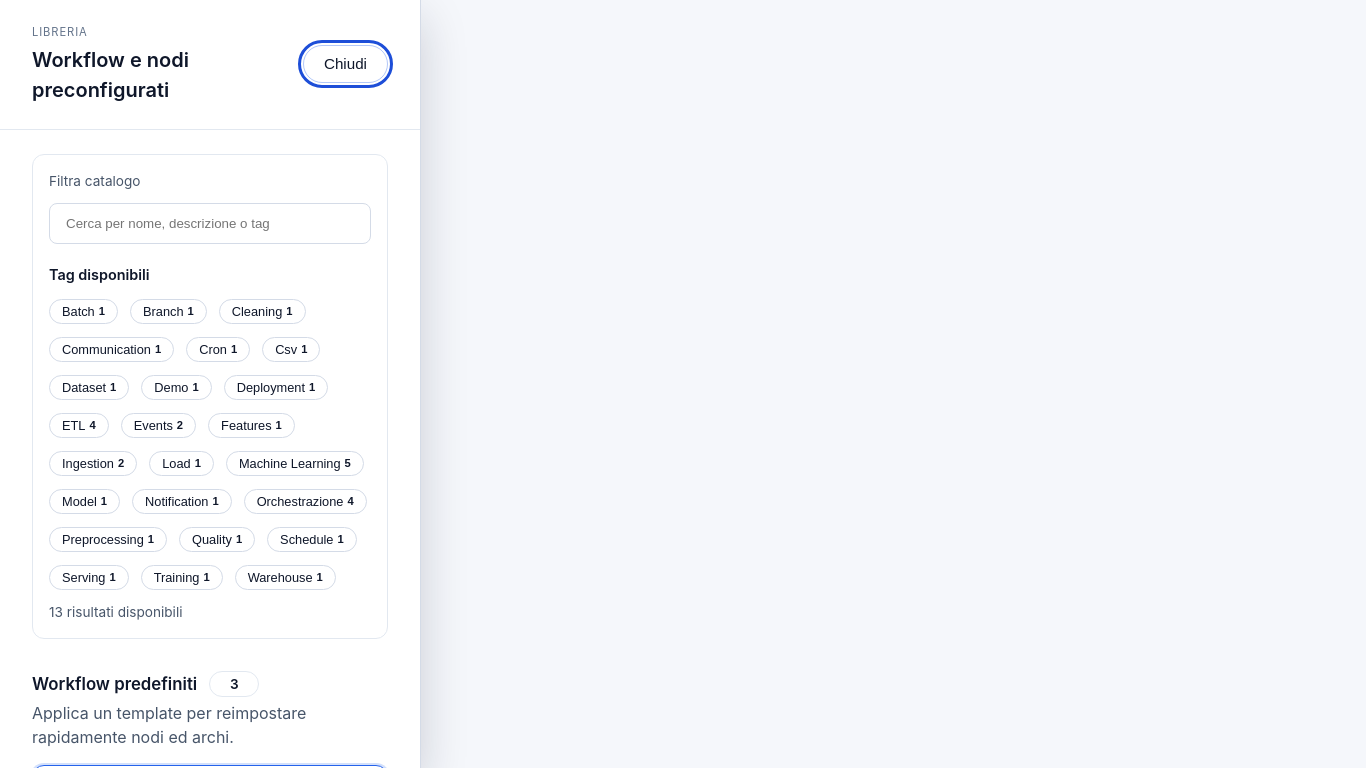
TemplateCatalog › filtra workflow e nodi in base alla ricerca
This screenshot has width=1366, height=768.
In the search field labelled "Filtra catalogo": {"x": 210, "y": 224} [49,203,371,244], type "notific"
(page scrolled)
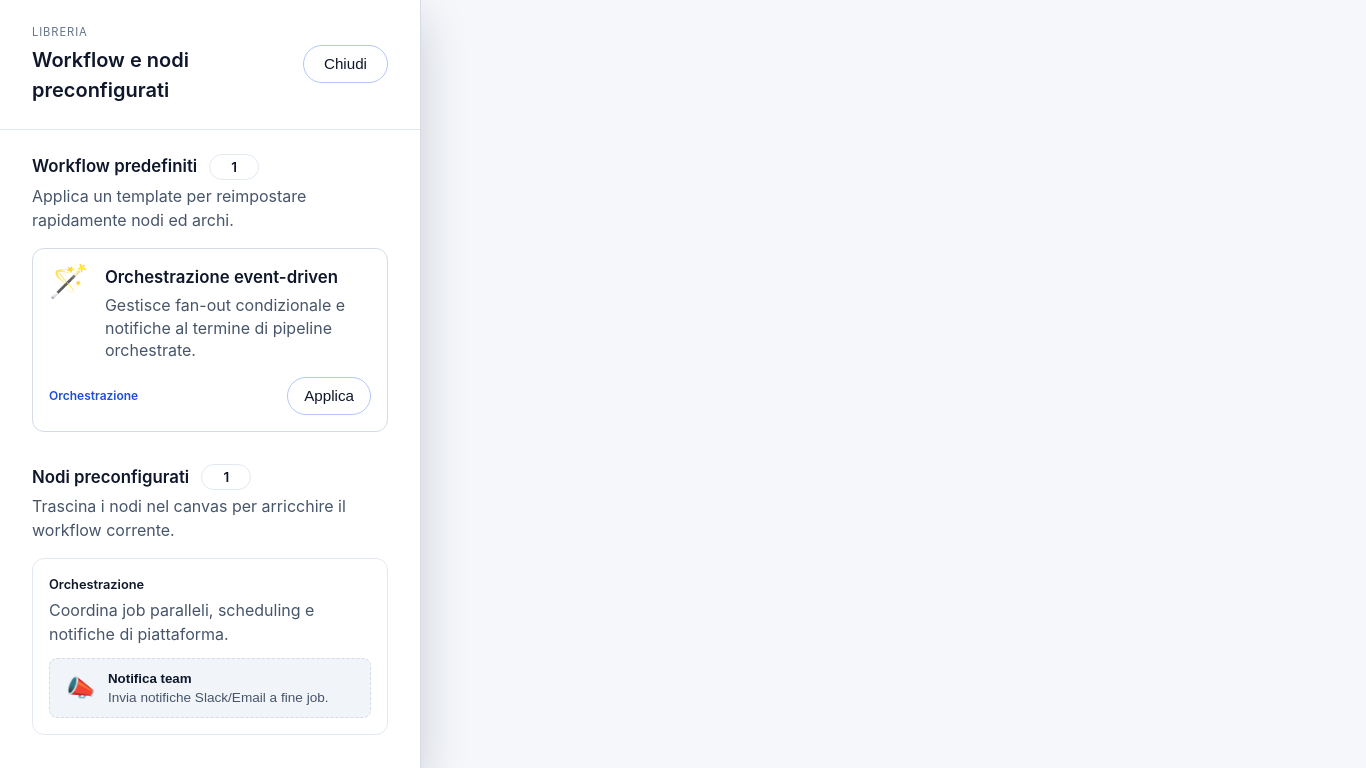
Now the heading "Orchestrazione event-driven" is shown, box [105,265,371,290]
Now the text "Notifica team" is shown, box [108,671,192,686]
